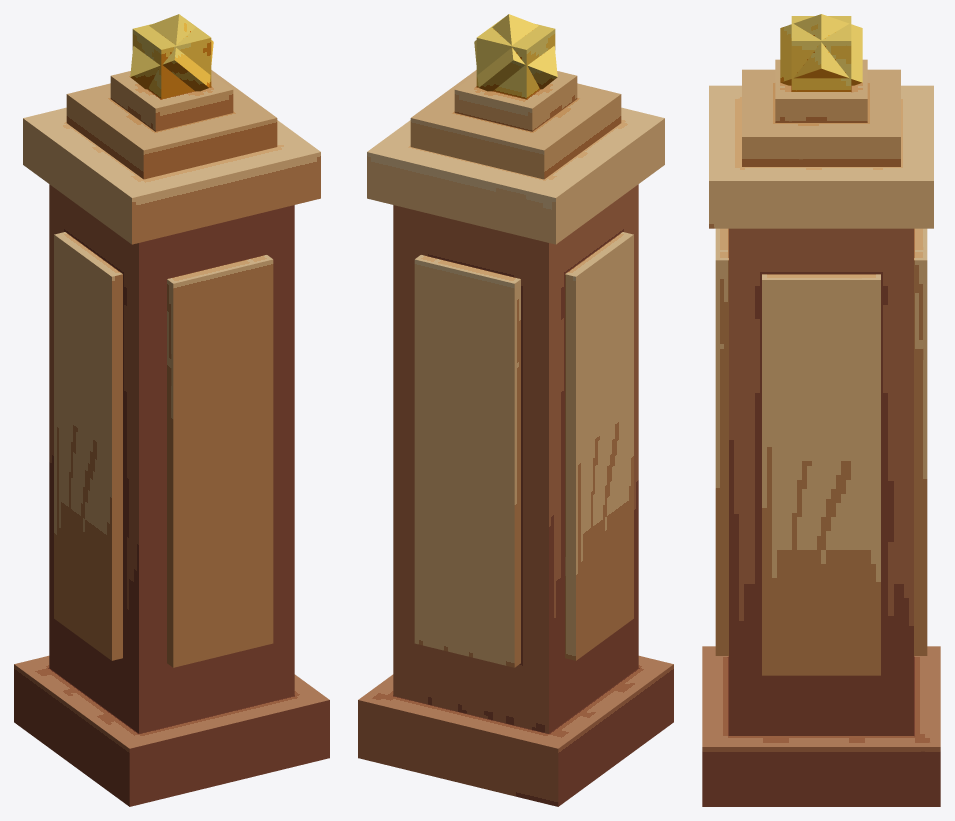
Rendered from rail_post.gltf.
The picture shows the model from 3 angles, left to right: view 1: azimuth 30°, elevation 25°; view 2: azimuth 150°, elevation 25°; view 3: azimuth 270°, elevation 25°; orthographic projection. The views are drawn at different scales.
Parts seen in each view (by area): view 1: post_shaft, post_panel_south, post_panel_west, post_plinth, post_collar, post_cap_low, post_cap_high, brass_finial, brass_finial_oct; view 2: post_shaft, post_panel_north, post_panel_west, post_plinth, post_collar, post_cap_low, post_cap_high, brass_finial, brass_finial_oct; view 3: post_panel_east, post_shaft, post_plinth, post_collar, post_cap_low, post_panel_north, post_panel_south, post_cap_high, brass_finial_oct, brass_finial.
Part boxes in pixels (x1,y1,x2,y2): post_shaft: (49,184,294,733); post_panel_south: (167,255,273,667); post_panel_west: (54,232,122,660); post_plinth: (14,655,329,806); post_collar: (23,107,320,244); post_cap_low: (66,70,277,179); post_cap_high: (110,71,233,131); brass_finial: (132,18,211,99); brass_finial_oct: (130,14,213,91); post_shaft: (393,184,638,733); post_panel_north: (414,255,520,667); post_panel_west: (565,232,633,660); post_plinth: (358,655,673,806); post_collar: (367,107,664,244); post_cap_low: (410,70,621,179); post_cap_high: (454,71,577,131); brass_finial: (476,18,555,99); brass_finial_oct: (474,14,557,91); post_panel_east: (762,274,880,675); post_shaft: (729,228,913,735); post_plinth: (702,646,940,806); post_collar: (709,85,933,228); post_cap_low: (742,69,900,166); post_panel_north: (914,228,927,655); post_panel_south: (715,228,728,655); post_cap_high: (775,59,867,122); brass_finial_oct: (780,14,862,85); brass_finial: (791,16,851,91).
Size of the model in its own units: 0.36 by 1.25 by 0.36.
Materials: 2 (2 with a texture image).
